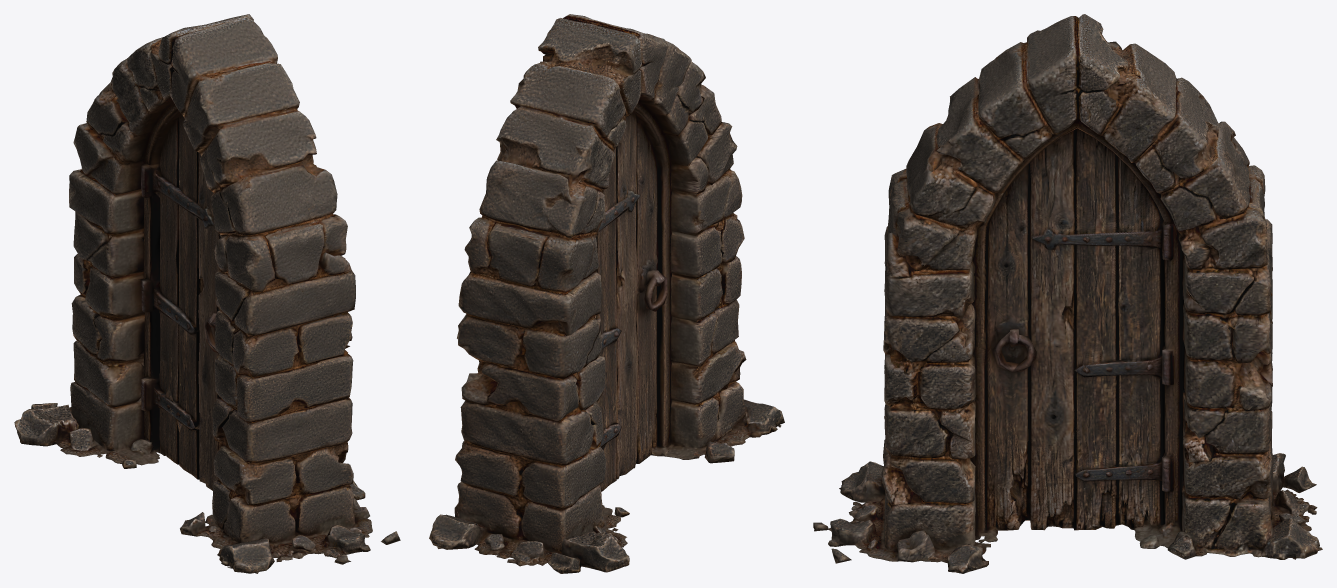
Rendered from door.glb.
3 renders of one model, left to right at view 1: azimuth 30°, elevation 25°; view 2: azimuth 150°, elevation 25°; view 3: azimuth 270°, elevation 25°, orthographic. The views are drawn at different scales.
Visible parts, largest first — view 1: tripo_node_d7405a83-717e-47d8-898e-946dceba4905; view 2: tripo_node_d7405a83-717e-47d8-898e-946dceba4905; view 3: tripo_node_d7405a83-717e-47d8-898e-946dceba4905.
Part boxes in pixels (x1,y1,x2,y2): tripo_node_d7405a83-717e-47d8-898e-946dceba4905: (14,14,400,573); tripo_node_d7405a83-717e-47d8-898e-946dceba4905: (429,14,784,573); tripo_node_d7405a83-717e-47d8-898e-946dceba4905: (813,14,1322,573).
Size of the model in its own units: 0.4744 by 1 by 0.939.
Materials: 1 (1 with a texture image).
